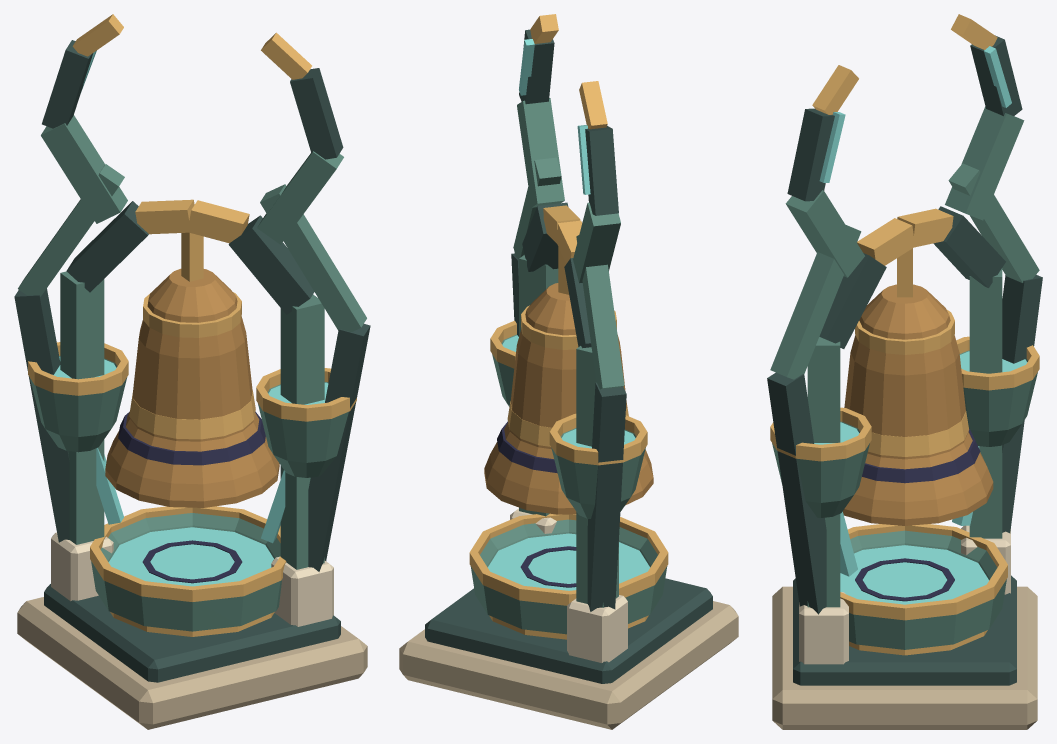
The model's file is Tower_TideBellL3.fbx.
3 renders of one model, left to right at view 1: azimuth 30°, elevation 25°; view 2: azimuth 150°, elevation 25°; view 3: azimuth 270°, elevation 25°, orthographic. The views are drawn at different scales.
Visible parts, largest first — view 1: Tower_TideBellL3; view 2: Tower_TideBellL3; view 3: Tower_TideBellL3.
Boxes of the visible parts, box(x1,y1,x2,y2) form: Tower_TideBellL3: box(14, 14, 370, 729); Tower_TideBellL3: box(399, 14, 738, 729); Tower_TideBellL3: box(767, 14, 1042, 729).
Size of the model in its own units: 0.9363 by 2.38 by 0.9363.
